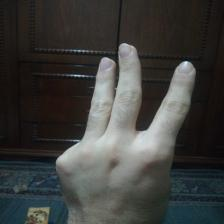five: (59, 43, 198, 221)
